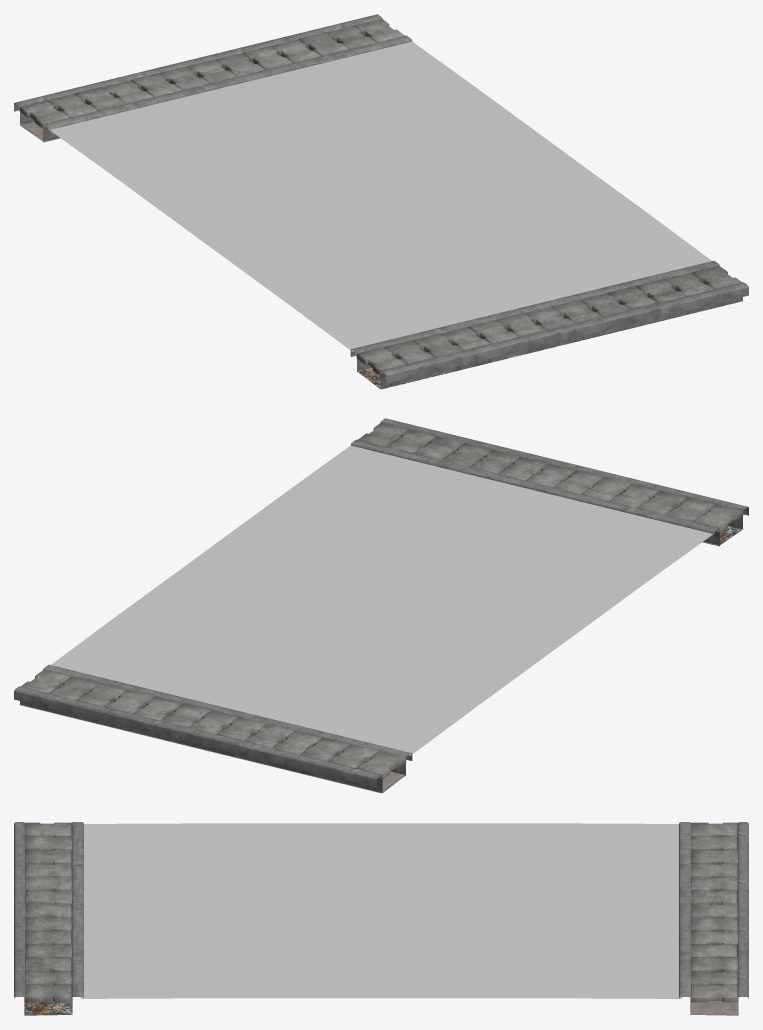
Rendered from SM_Road_600_Straight.fbx.
The picture shows the model from 3 angles, top to bottom: view 1: azimuth 30°, elevation 25°; view 2: azimuth 150°, elevation 25°; view 3: azimuth 270°, elevation 25°; orthographic projection.
Parts seen in each view (by area): view 1: SM_Road_600_Straight_LOD0; view 2: SM_Road_600_Straight_LOD0; view 3: SM_Road_600_Straight_LOD0.
Boxes of the visible parts, <box> form: SM_Road_600_Straight_LOD0: <box>14,14,748,389</box>; SM_Road_600_Straight_LOD0: <box>14,418,748,793</box>; SM_Road_600_Straight_LOD0: <box>14,822,748,1015</box>.
Bounding box in the file's own units: 400 × 710 × 20.
